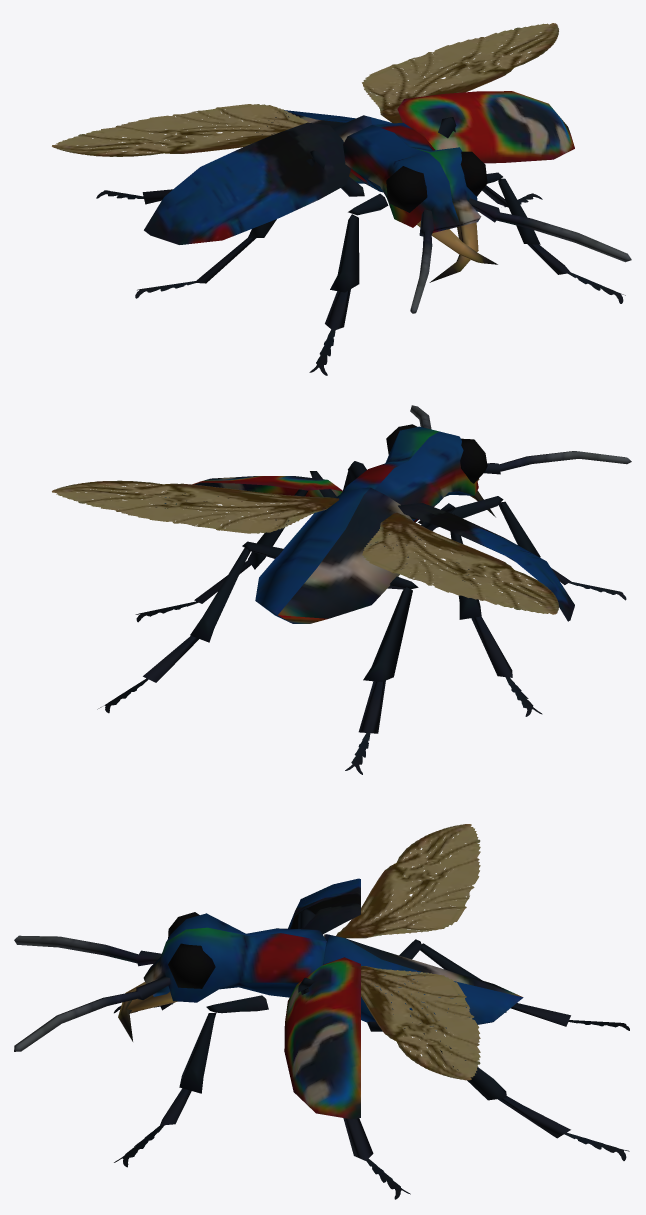
Rendered from tiger-beetle.glb.
3 renders of one model, top to bottom at view 1: azimuth 30°, elevation 25°; view 2: azimuth 150°, elevation 25°; view 3: azimuth 270°, elevation 25°, orthographic. The views are drawn at different scales.
Bounding box in the file's own units: 3.72 × 0.994 × 3.29.
2 materials, 2 textured.
